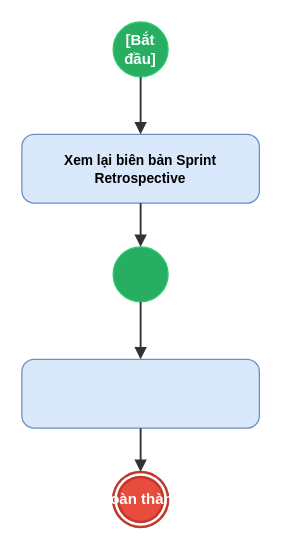
This 281x550 diagram has some shape labels left out. The centre of each missing label's shape, as x and y in pixels:
"Phân loại ý kiến Start-Stop-Continue" goes at (140,274).
"Sửa lỗi Improvement và loại bỏ đổ lỗi cá nhân" goes at (140,393).
